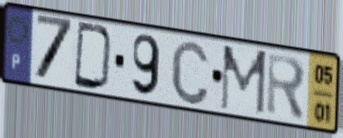7: (34, 12, 75, 86)
9: (130, 32, 162, 99)
C: (169, 38, 211, 108)
D: (72, 19, 116, 93)
M: (218, 43, 269, 118)
R: (265, 50, 308, 124)
